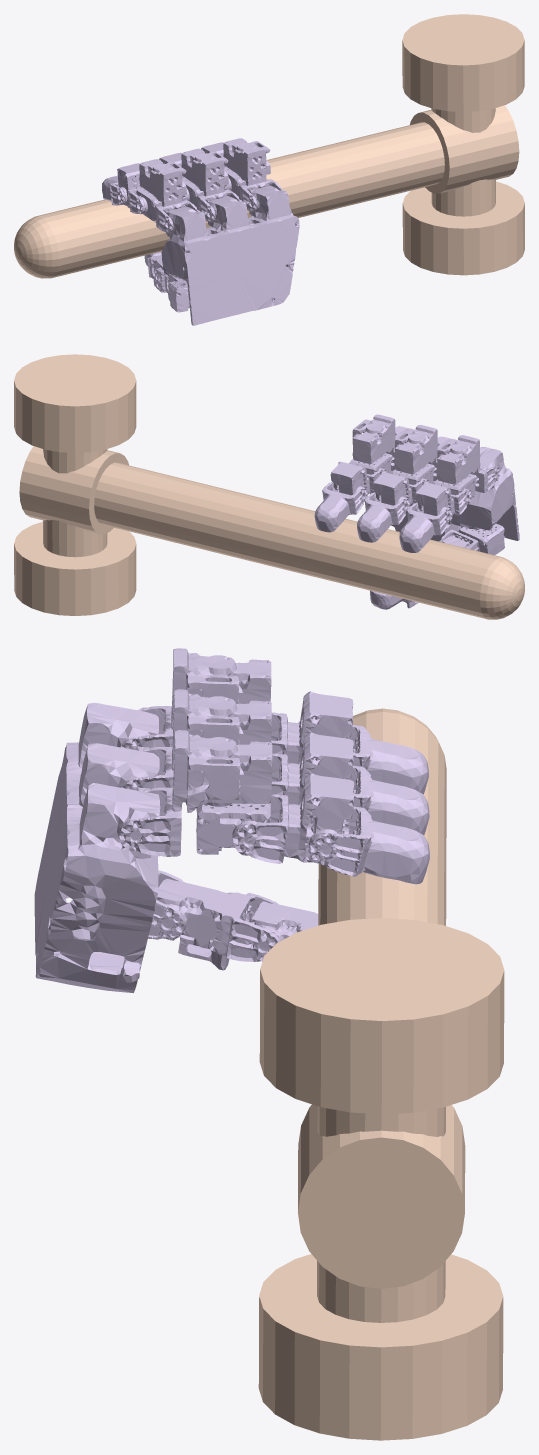
Rendered from 289abb28c22157-closed.glb.
3 views of the same model, one above another, from view 1: azimuth 30°, elevation 25°; view 2: azimuth 150°, elevation 25°; view 3: azimuth 270°, elevation 25° (orthographic). The views are drawn at different scales.
Visible parts, largest first — view 1: world, LEAP_hand; view 2: world, LEAP_hand; view 3: world, LEAP_hand.
Boxes of the visible parts, left/top/right/bottom form: world: left=14, top=14, right=524, bottom=278; LEAP_hand: left=102, top=138, right=299, bottom=325; world: left=14, top=354, right=524, bottom=619; LEAP_hand: left=314, top=414, right=519, bottom=609; world: left=258, top=708, right=504, bottom=1440; LEAP_hand: left=34, top=648, right=429, bottom=993.
Size of the model in its own units: 0.5371 by 0.2164 by 0.2193.
